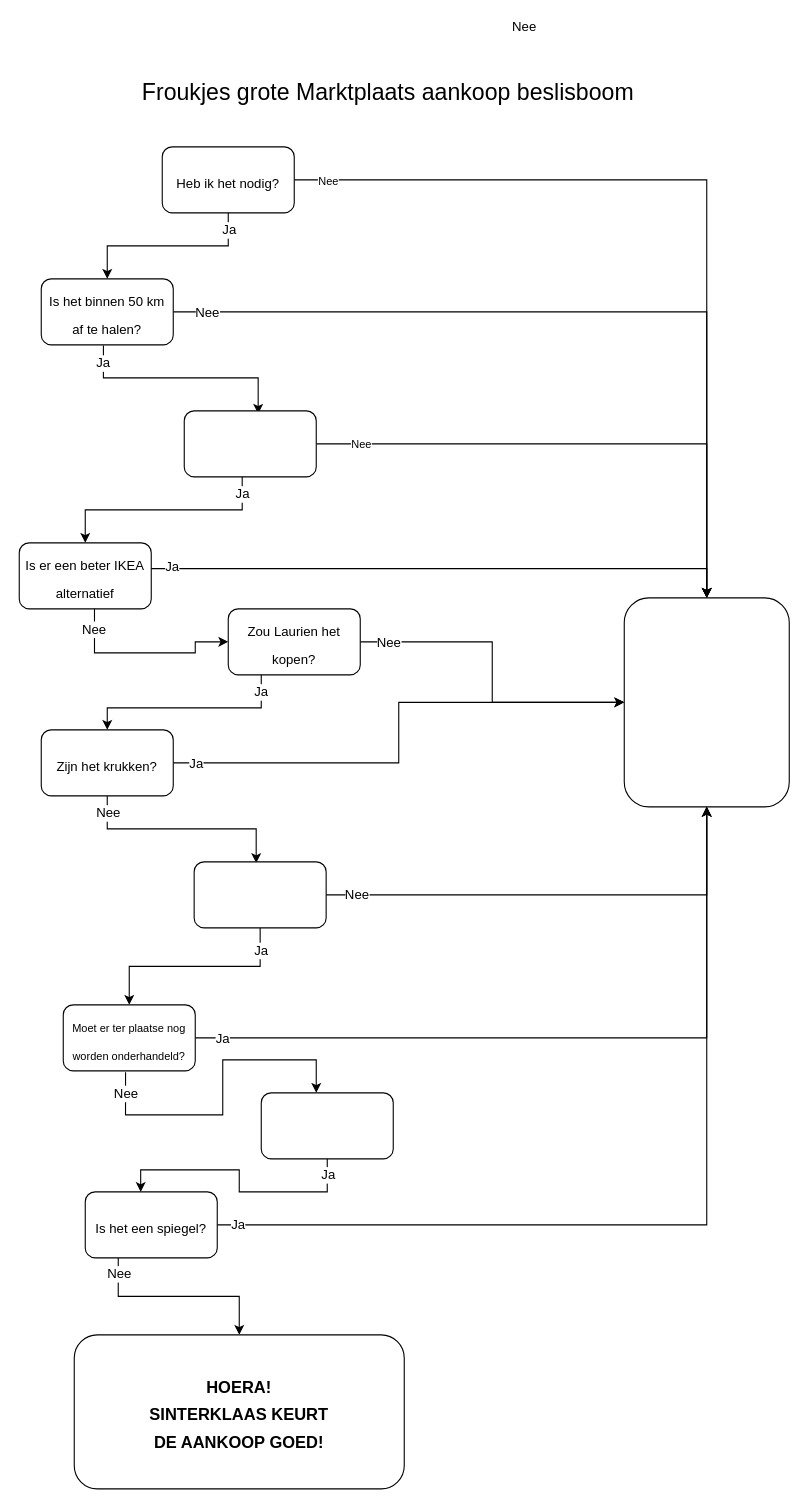
This 809x1508 diagram has some shape labels left out. The shapes that lost their labels are listed below. From the top down, each one's centre as x and y in pixels, then its label:
At (249,443): "Past het in de auto?".
At (706,702): "Helaas! Sinterklaas raadt deze aankoop af".
At (259,894): "Kan er met een tikkie betaald worden?".
At (326,1125): "Weet je de afmetingen van het object?".
